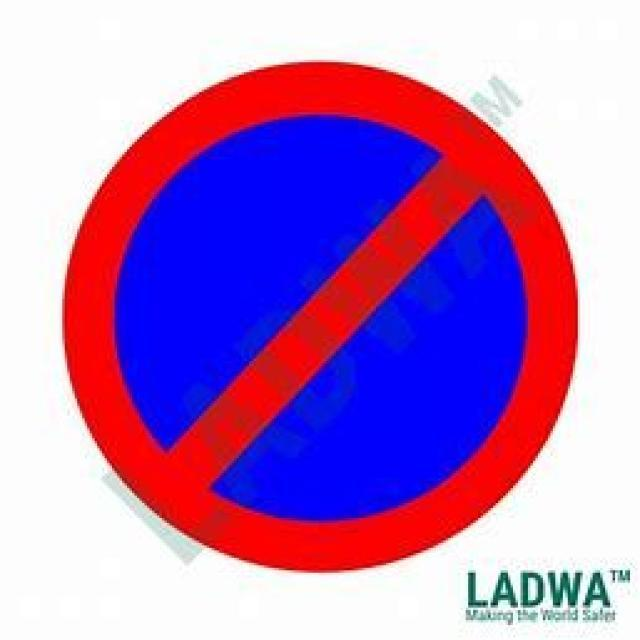no parking: (58, 58, 583, 569)
